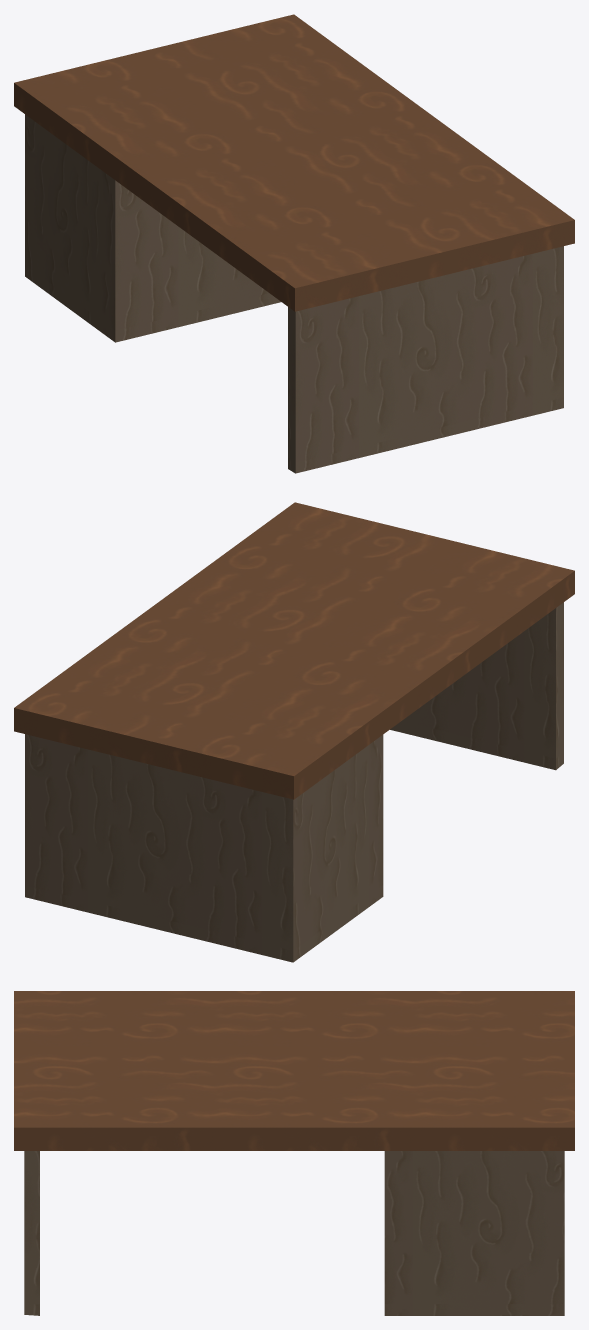
File: desk.fbx
3 views of the same model, one above another, from view 1: azimuth 30°, elevation 25°; view 2: azimuth 150°, elevation 25°; view 3: azimuth 270°, elevation 25° (orthographic).
Visible parts, largest first — view 1: top, legs; view 2: top, legs; view 3: top, legs.
Part boxes in pixels (x1,y1,x2,y2): top: [14, 14, 574, 311]; legs: [25, 114, 563, 473]; top: [14, 502, 574, 799]; legs: [25, 602, 563, 962]; top: [14, 991, 574, 1150]; legs: [24, 1151, 564, 1315].
Size of the model in its own units: 115 by 75.26 by 200.
